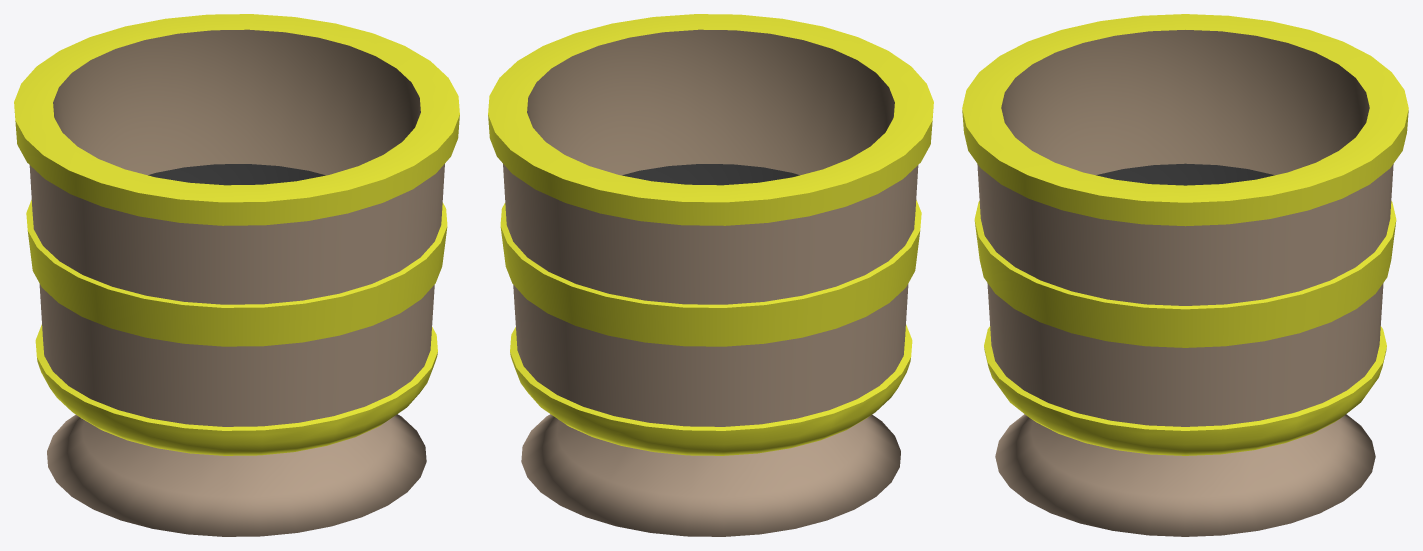
The model's file is dustcity_torch.fbx.
3 renders of one model, left to right at view 1: azimuth 30°, elevation 25°; view 2: azimuth 150°, elevation 25°; view 3: azimuth 270°, elevation 25°, orthographic.
Visible parts, largest first — view 1: torch1; view 2: torch1; view 3: torch1.
Part boxes in pixels (x1=…): torch1: x1=14, y1=14, x2=459, y2=536; torch1: x1=488, y1=14, x2=933, y2=536; torch1: x1=962, y1=14, x2=1408, y2=536.
Bounding box in the file's own units: 11.6 × 10 × 11.6.
